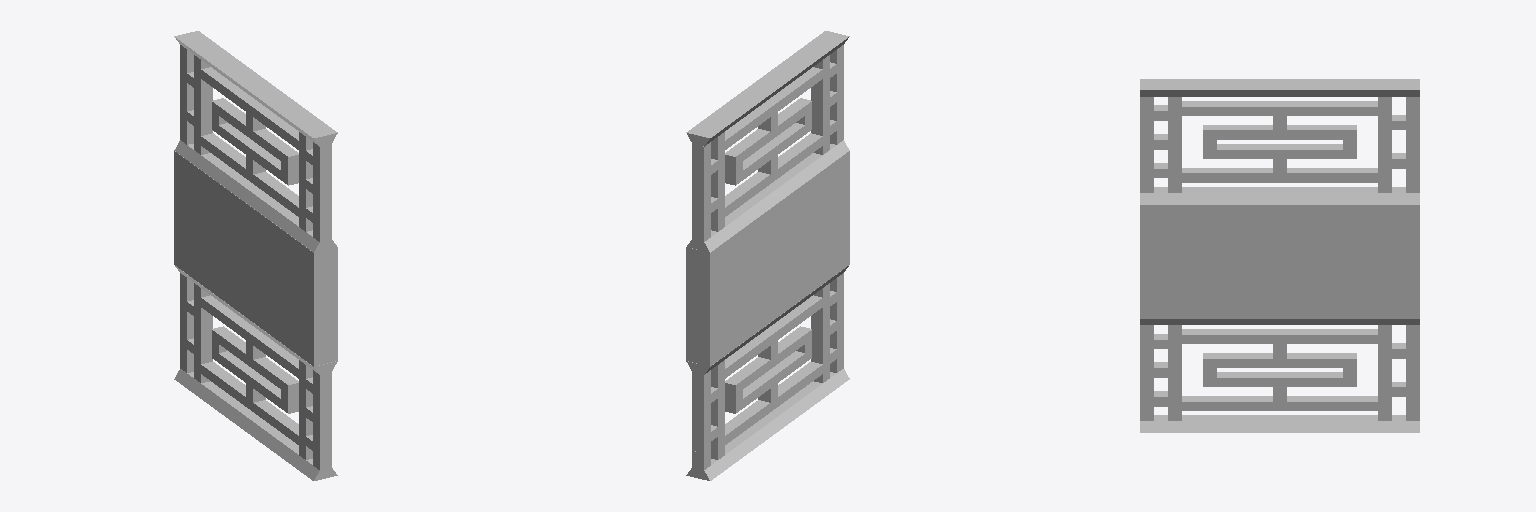
The model's file is frieze.obj.
3 views of the same model, side by side, from view 1: azimuth 30°, elevation 25°; view 2: azimuth 150°, elevation 25°; view 3: azimuth 270°, elevation 25° (orthographic).
Parts seen in each view (by area): view 1: object; view 2: object; view 3: object.
Part boxes in pixels (x1,y1,x2,y2): object: (174, 31, 337, 480); object: (686, 31, 849, 480); object: (1140, 79, 1419, 432).
Size of the model in its own units: 2.99 by 40.54 by 29.93.